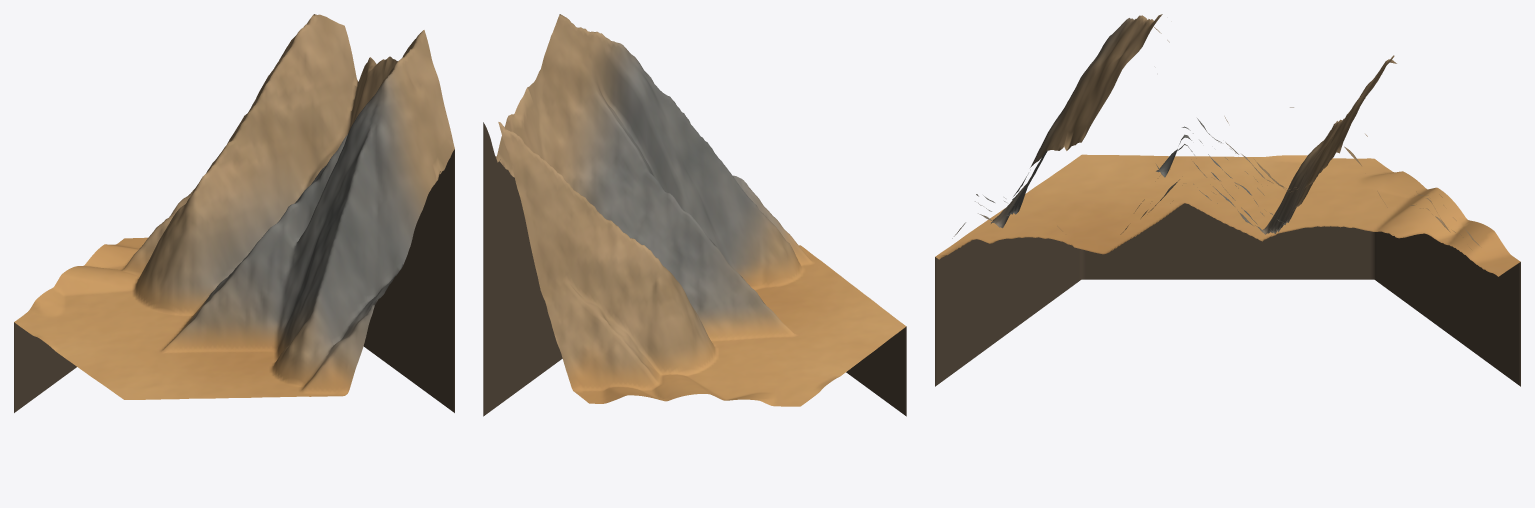
3 views of the same model, side by side, from view 1: azimuth 30°, elevation 25°; view 2: azimuth 150°, elevation 25°; view 3: azimuth 270°, elevation 25° (orthographic). The views are drawn at different scales.
Parts seen in each view (by area): view 1: terrain, hex_side_cut; view 2: terrain, hex_side_cut; view 3: terrain, hex_side_cut.
Part boxes in pixels (x1,y1,x2,y2): terrain: [14, 14, 454, 399]; hex_side_cut: [14, 149, 454, 412]; terrain: [495, 14, 906, 406]; hex_side_cut: [483, 122, 906, 416]; terrain: [935, 14, 1520, 276]; hex_side_cut: [935, 203, 1520, 386].
Bounding box in the file's own units: 4330 × 4521 × 5000.
